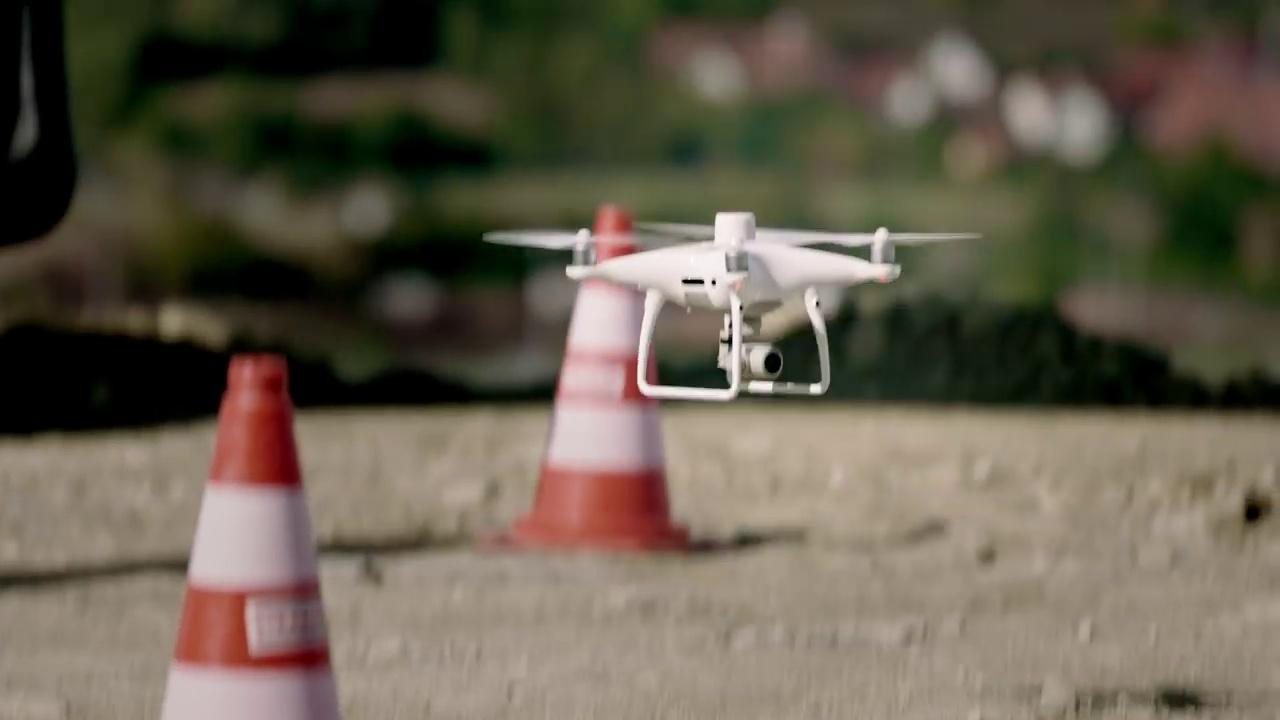drone: (479, 208, 996, 401)
